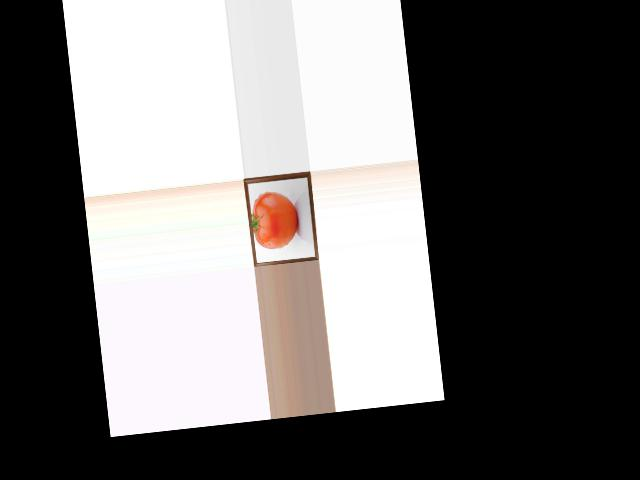tomato: (248, 189, 300, 250)
